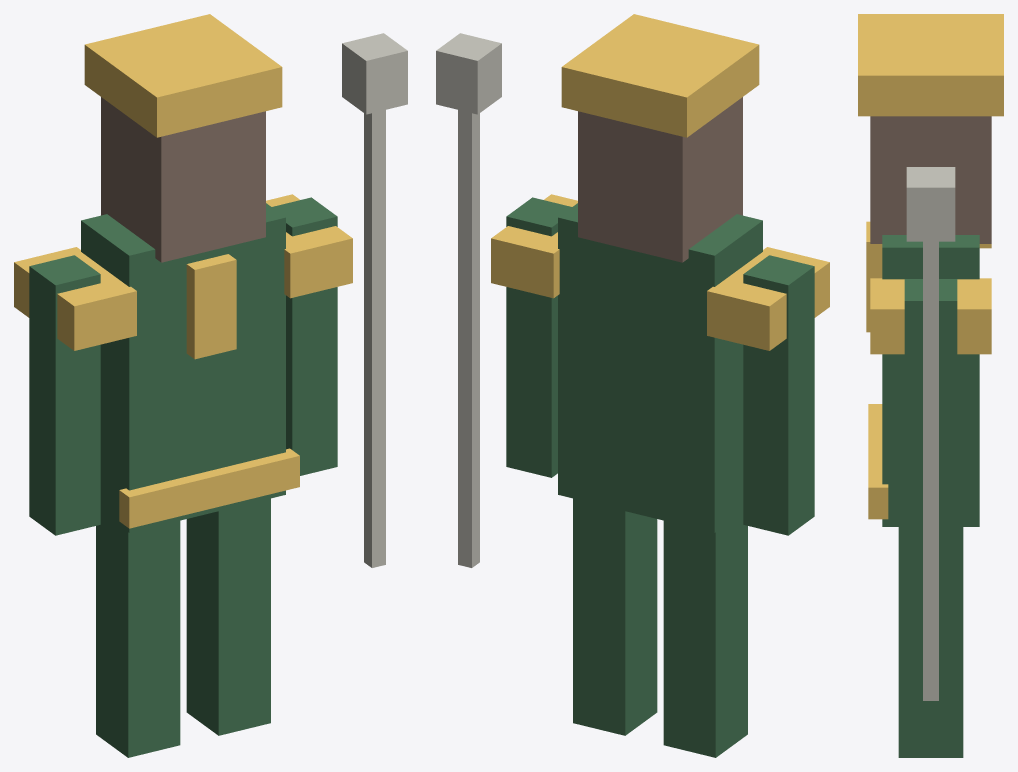
Rendered from 11_dax_stormhush_pilgrim_at.glb.
3 views of the same model, side by side, from view 1: azimuth 30°, elevation 25°; view 2: azimuth 150°, elevation 25°; view 3: azimuth 270°, elevation 25° (orthographic).
Visible parts, largest first — view 1: Dax Stormhush, Pilgrim at; view 2: Dax Stormhush, Pilgrim at; view 3: Dax Stormhush, Pilgrim at.
Boxes of the visible parts, bbox=[...] form: Dax Stormhush, Pilgrim at: bbox=[14, 14, 407, 757]; Dax Stormhush, Pilgrim at: bbox=[436, 14, 829, 757]; Dax Stormhush, Pilgrim at: bbox=[858, 14, 1003, 757].
Size of the model in its own units: 0.9349 by 1.7 by 0.3316.
